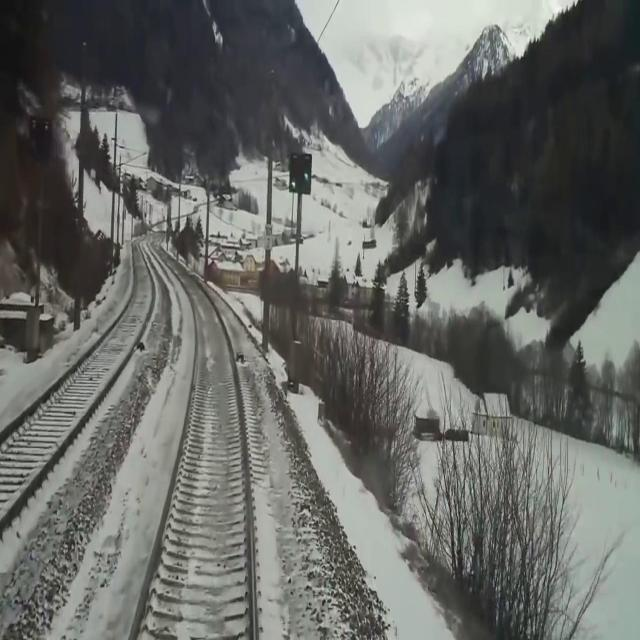rail-track: (133, 241, 251, 639), (0, 238, 153, 511)
